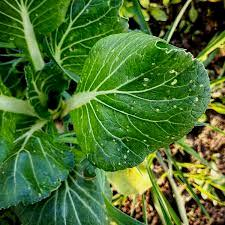Bok-Choy-Diseased: (58, 30, 201, 172)
